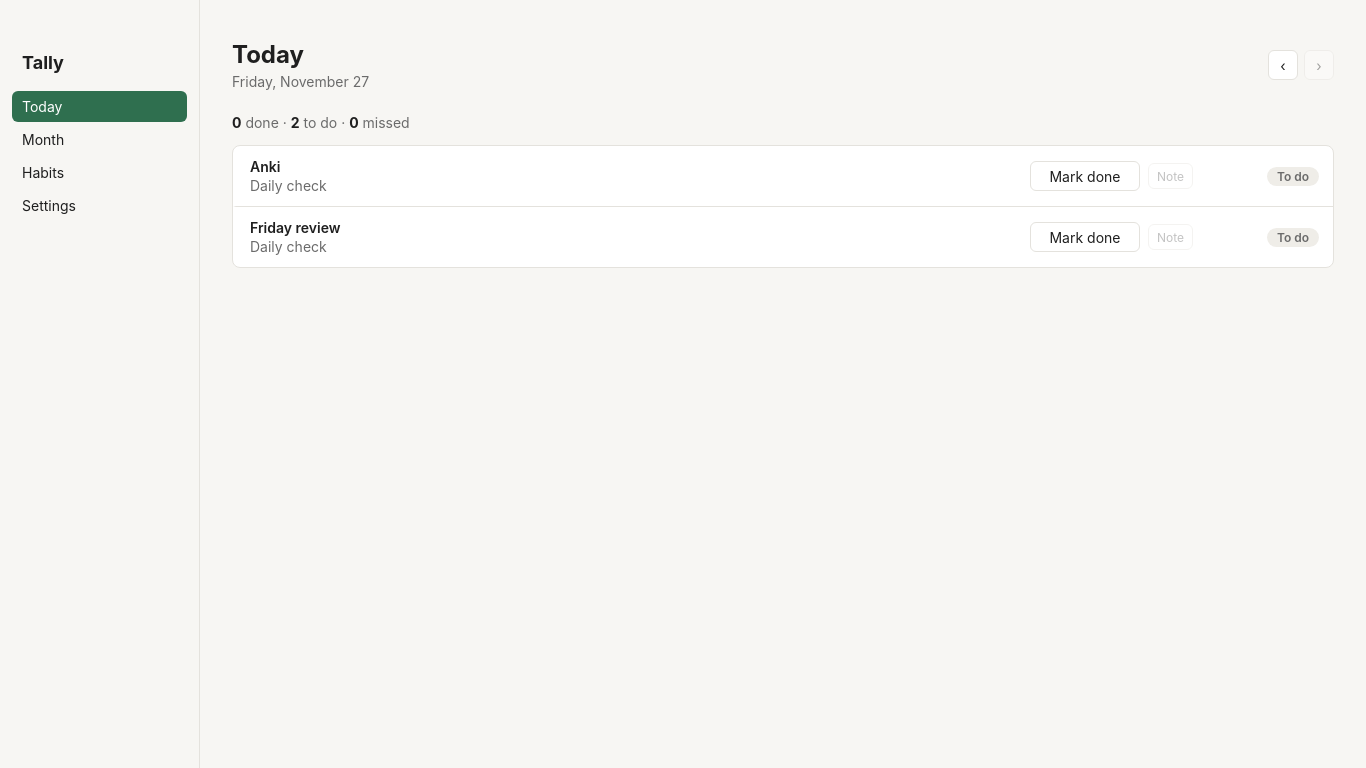
Test: TodayPage › hides habits that are not scheduled on that day
The width and height of the screenshot is (1366, 768).
Check: the button with aria-label "Friday review done" is shown, box [1030,222,1140,252]
Click the button named "Previous day" at (1283, 65), box [1268,50,1298,80]
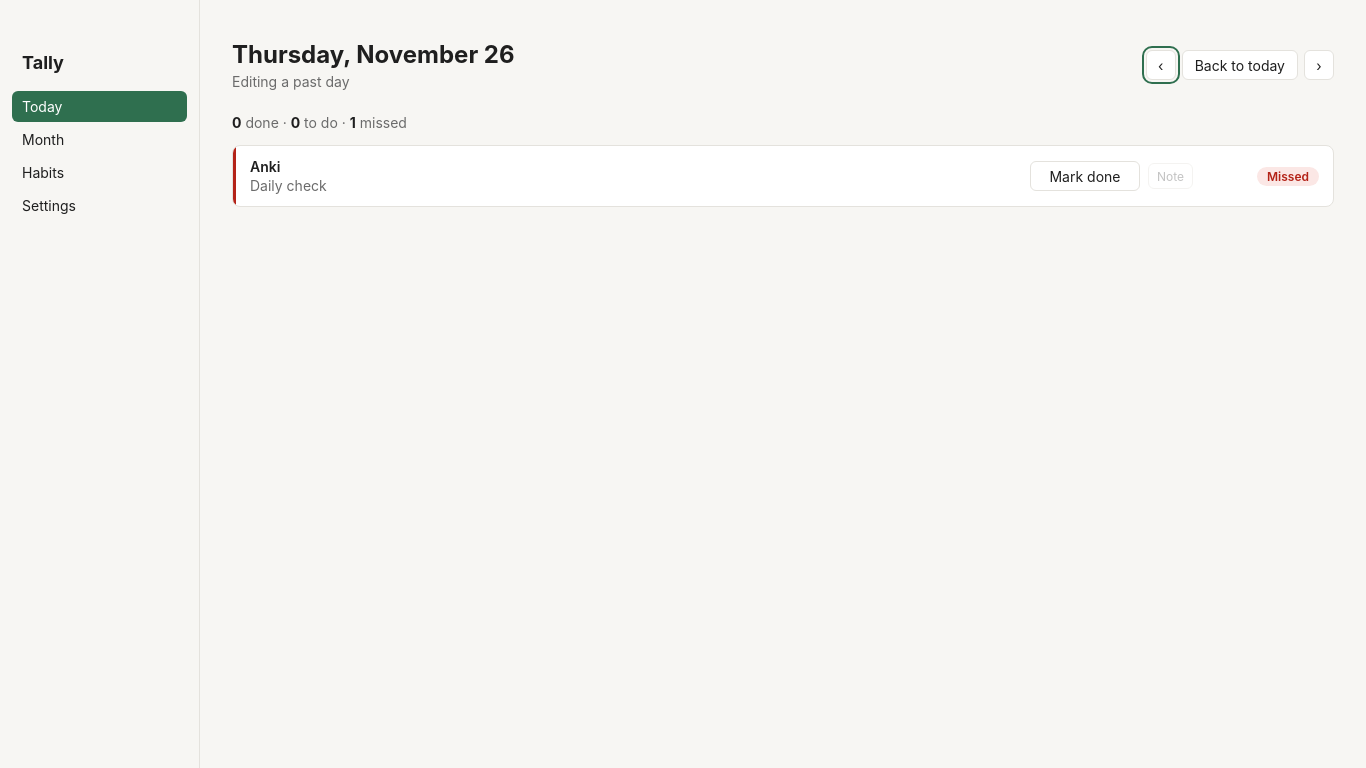
Check: the button with aria-label "Anki done" is shown, box [1030,161,1140,191]
Check: the heading "Thursday, November 26" is shown, box [232,40,515,69]
